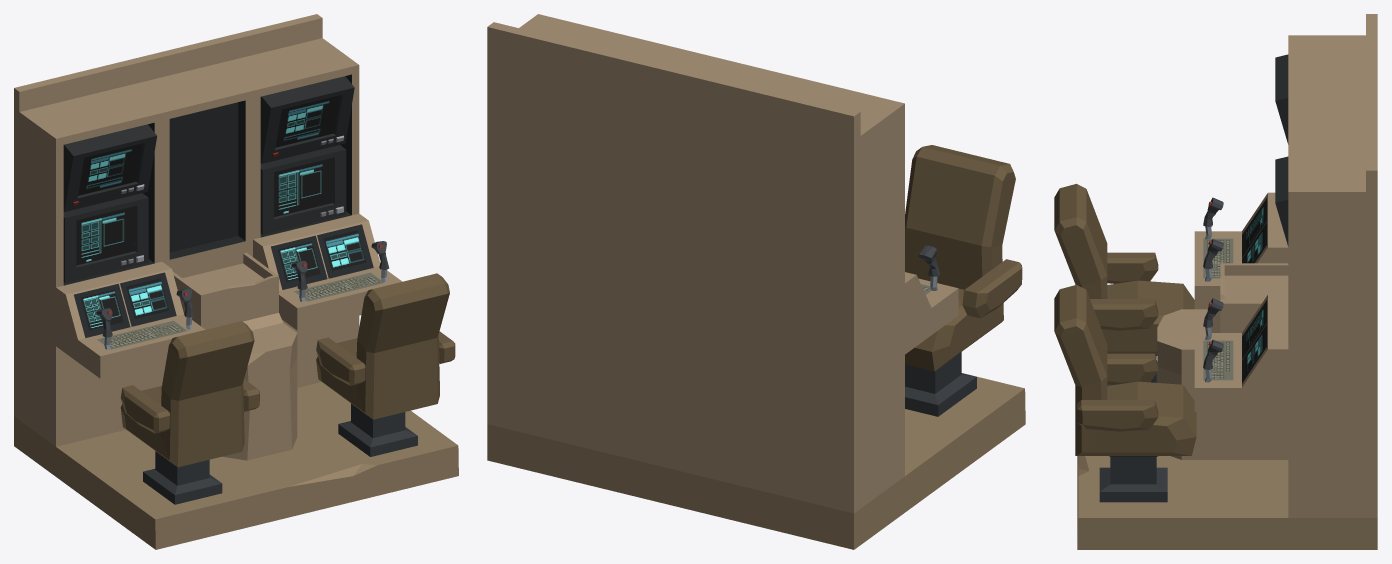
The model's file is SM_Prop_Drone_Control_Station_01.glb.
3 renders of one model, left to right at view 1: azimuth 30°, elevation 25°; view 2: azimuth 150°, elevation 25°; view 3: azimuth 270°, elevation 25°, orthographic. The views are drawn at different scales.
Parts seen in each view (by area): view 1: SM_Prop_Drone_Control_Station_01; view 2: SM_Prop_Drone_Control_Station_01; view 3: SM_Prop_Drone_Control_Station_01.
Part boxes in pixels (x1=…): SM_Prop_Drone_Control_Station_01: x1=14, y1=14, x2=458, y2=549; SM_Prop_Drone_Control_Station_01: x1=487, y1=14, x2=1025, y2=549; SM_Prop_Drone_Control_Station_01: x1=1054, y1=14, x2=1377, y2=549.
Size of the model in its own units: 2.13 by 2.41 by 1.86.
Materials: 1 (1 with a texture image).
